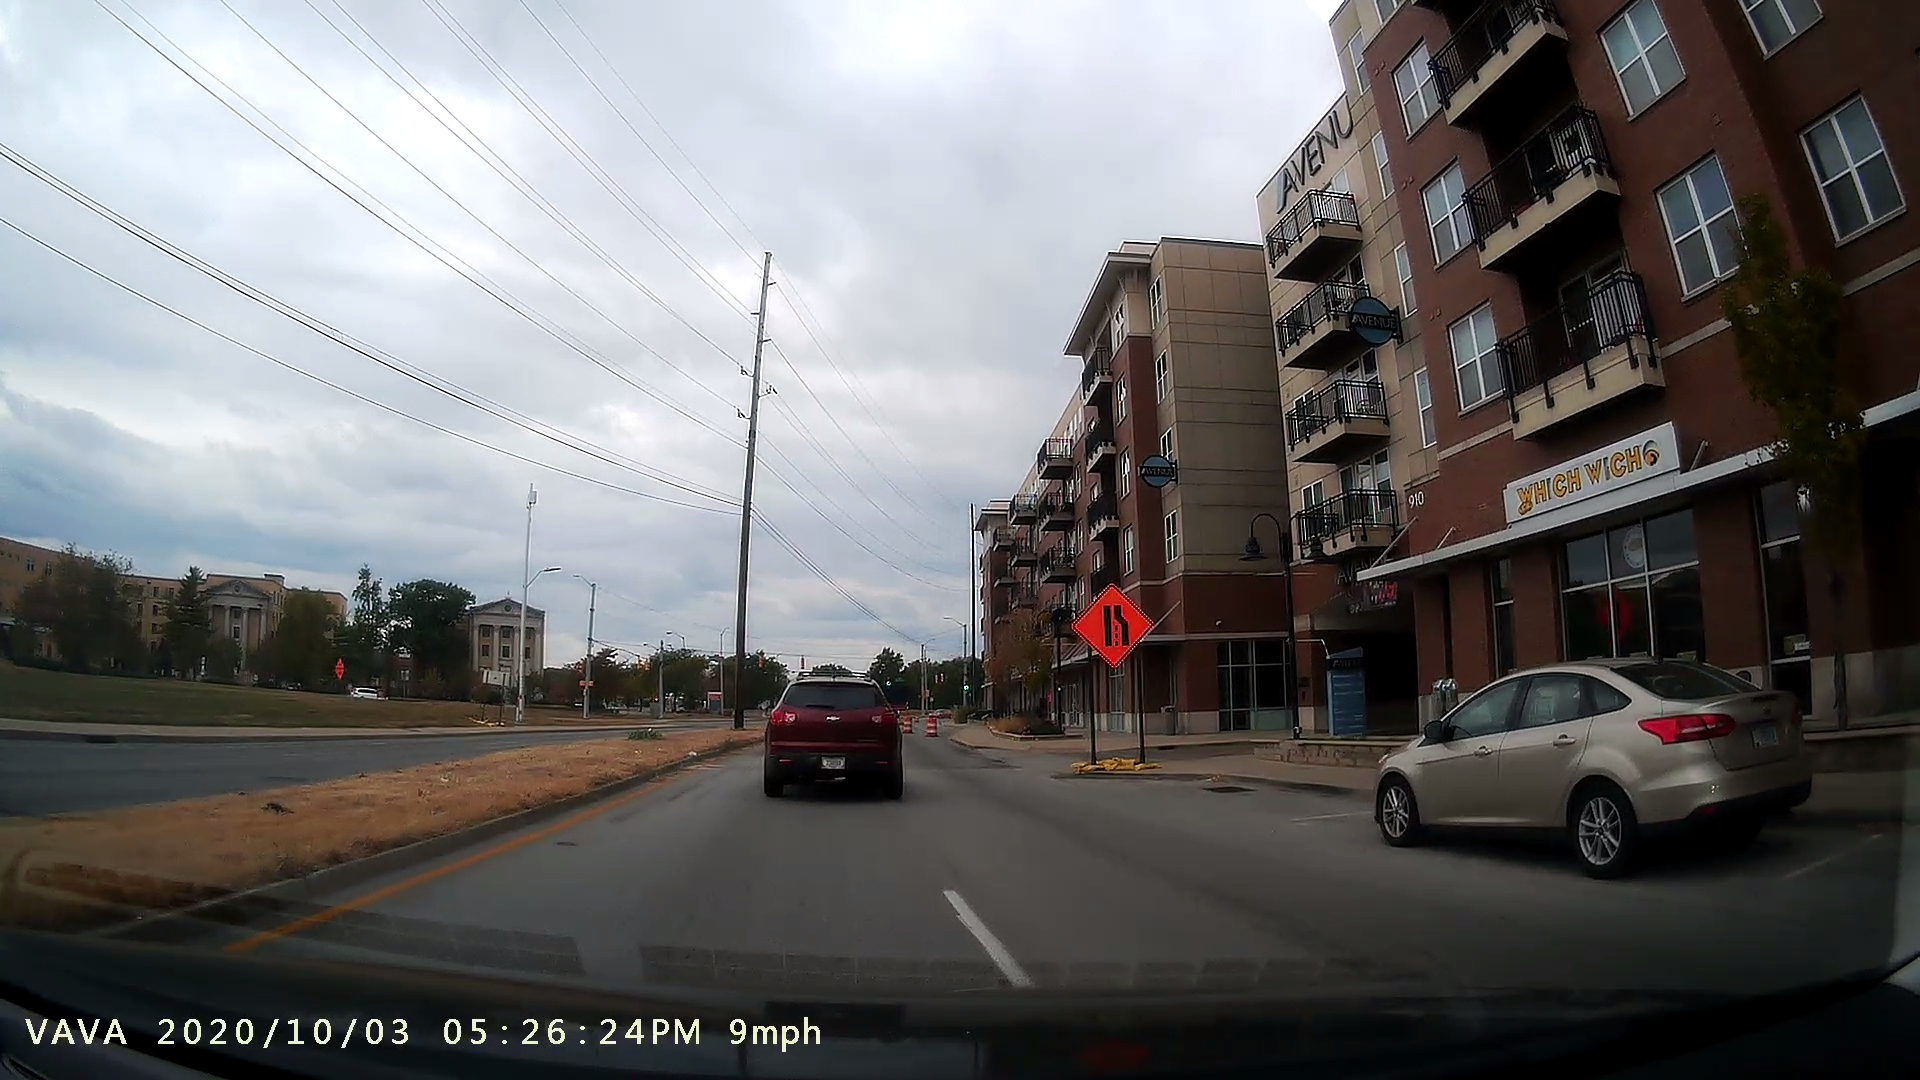ttcs_right_lane_reduction: (1064, 570, 1170, 771)
